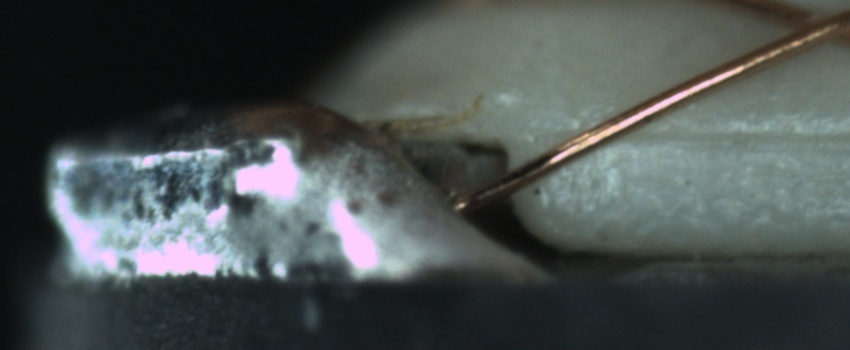CL: (763, 2, 849, 56)
DL: (571, 101, 845, 172)
